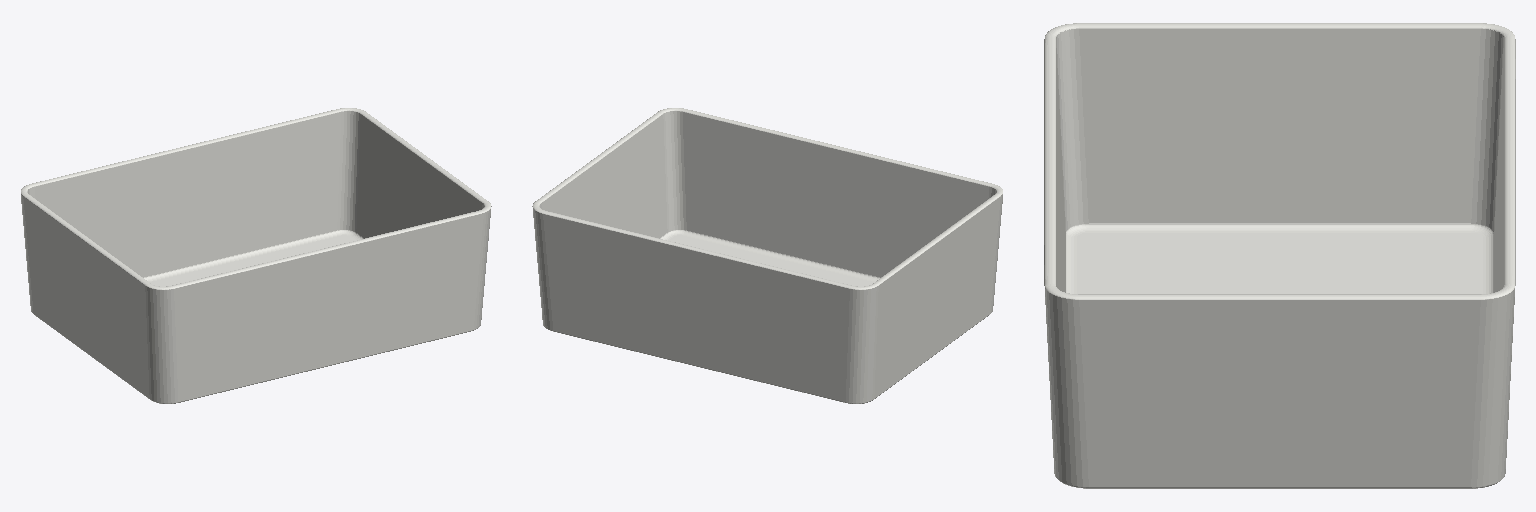
URDF robot description (cb_fastener_bin_c145):
<?xml version="1.0"?>
<!-- ContactBench fastener_bin_c145. Generated by FoundationTouch tools/contactbench/make_contactbench_assets.py -->
<robot name="cb_fastener_bin_c145">
  <material name="c"><color rgba="0.92 0.92 0.90 1.0"/></material>
  <link name="receptive">
    <visual><origin xyz="0 0 0" rpy="0 0 0"/><geometry><mesh filename="fastener_bin_c145.obj" scale="1 1 1"/></geometry><material name="c"/></visual>
    <collision><origin xyz="0 0 0" rpy="0 0 0"/><geometry><mesh filename="fastener_bin_c145.obj" scale="1 1 1"/></geometry><sdf resolution="512"/></collision>
  </link>
</robot>

--- Facts derived from the render (not from the file) ---
3 views of the same robot in one strip: view 1: azimuth 30°, elevation 25°; view 2: azimuth 150°, elevation 25°; view 3: azimuth 270°, elevation 25° (orthographic).
Model cb_fastener_bin_c145 with 1 links and 0 joints (none), rooted at receptive, posed all joints at 0.
Links seen in each view (by area): view 1: receptive; view 2: receptive; view 3: receptive.
Link boxes in pixels (<box>): receptive: <box>21,108,491,403</box>; receptive: <box>532,108,1002,403</box>; receptive: <box>1044,23,1515,488</box>.
Size in the robot's own frame: 0.0819 by 0.0591 by 0.0276 metres.
1 mesh visuals loaded from 1 distinct referenced files (1 OBJ).
